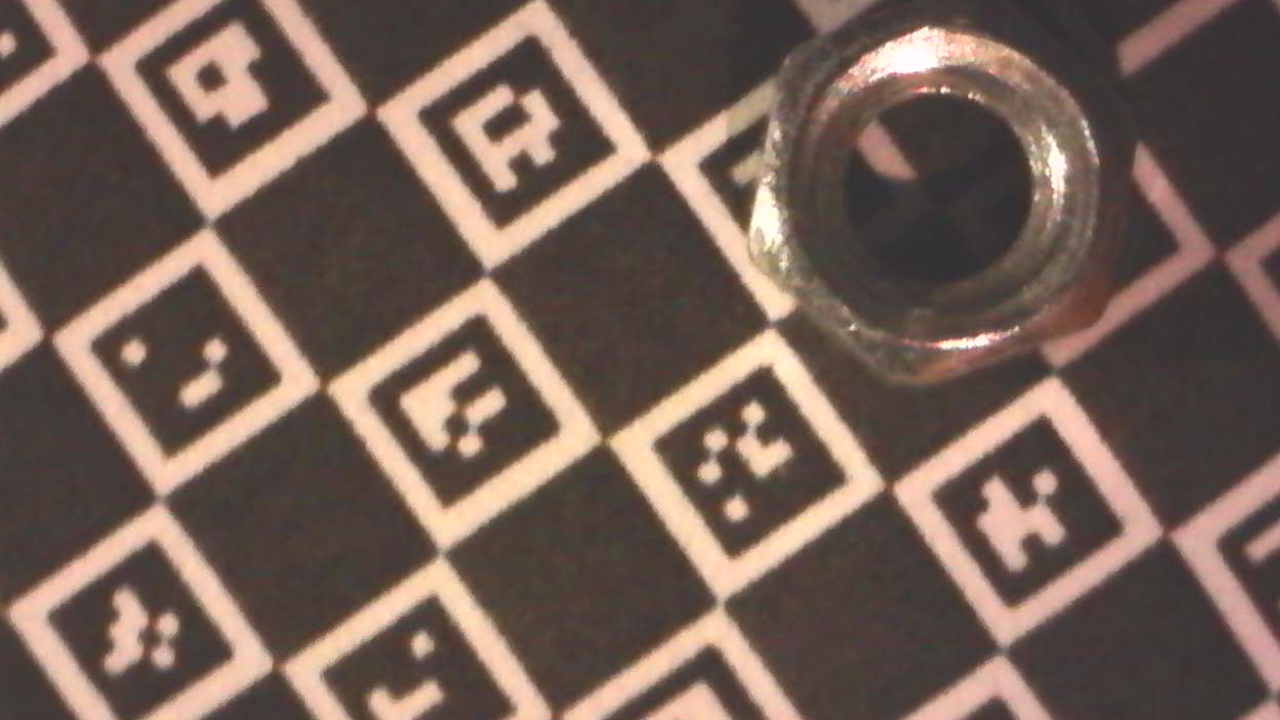Bolt: (742, 0, 1143, 391)
